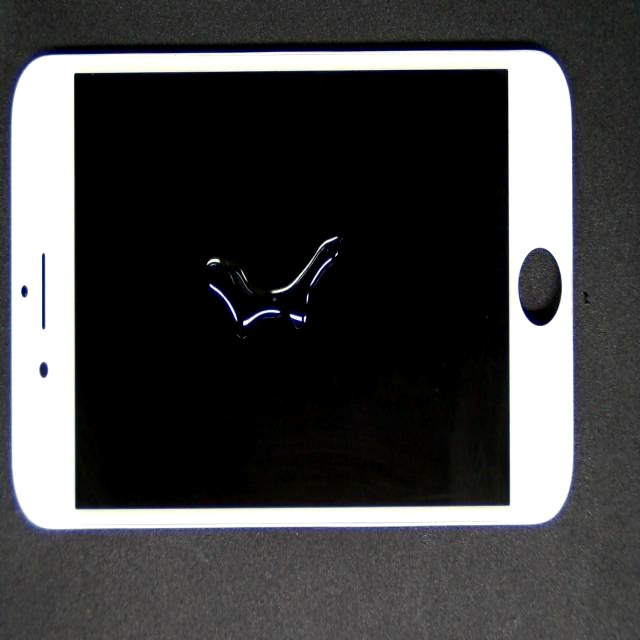oil: (101, 123, 306, 410)
